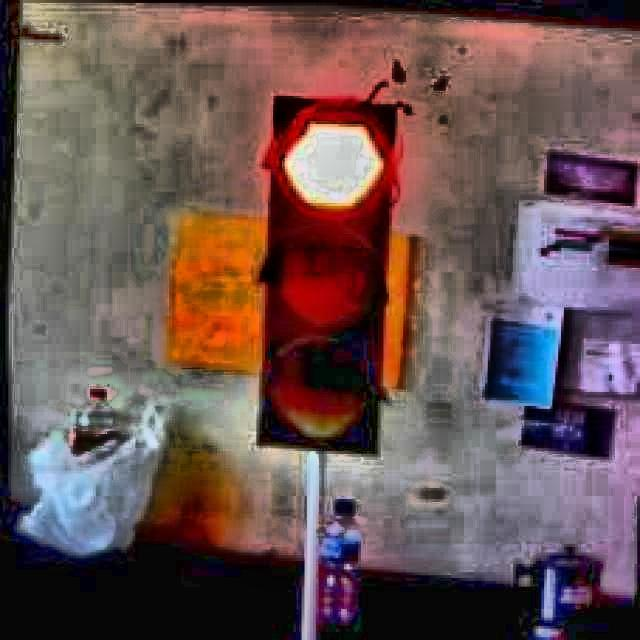red: (271, 91, 389, 465)
